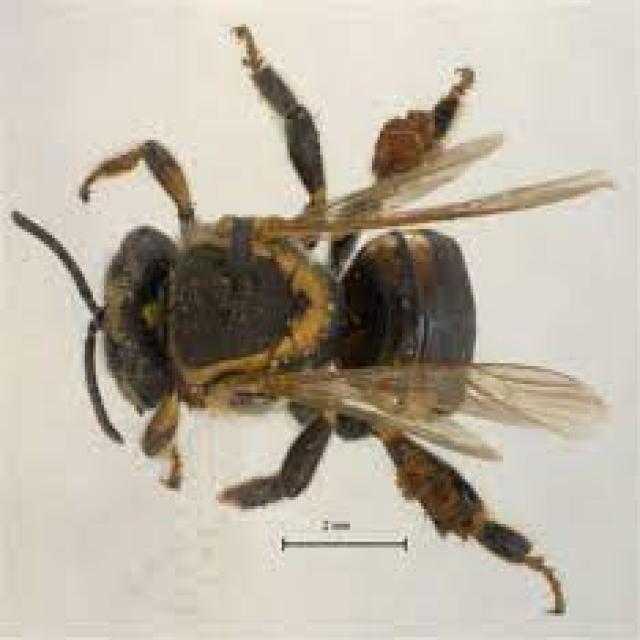Meliponula: (18, 18, 640, 624)
